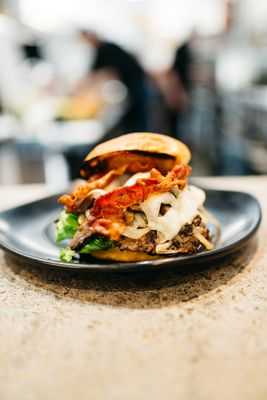soup: (54, 132, 219, 261)
